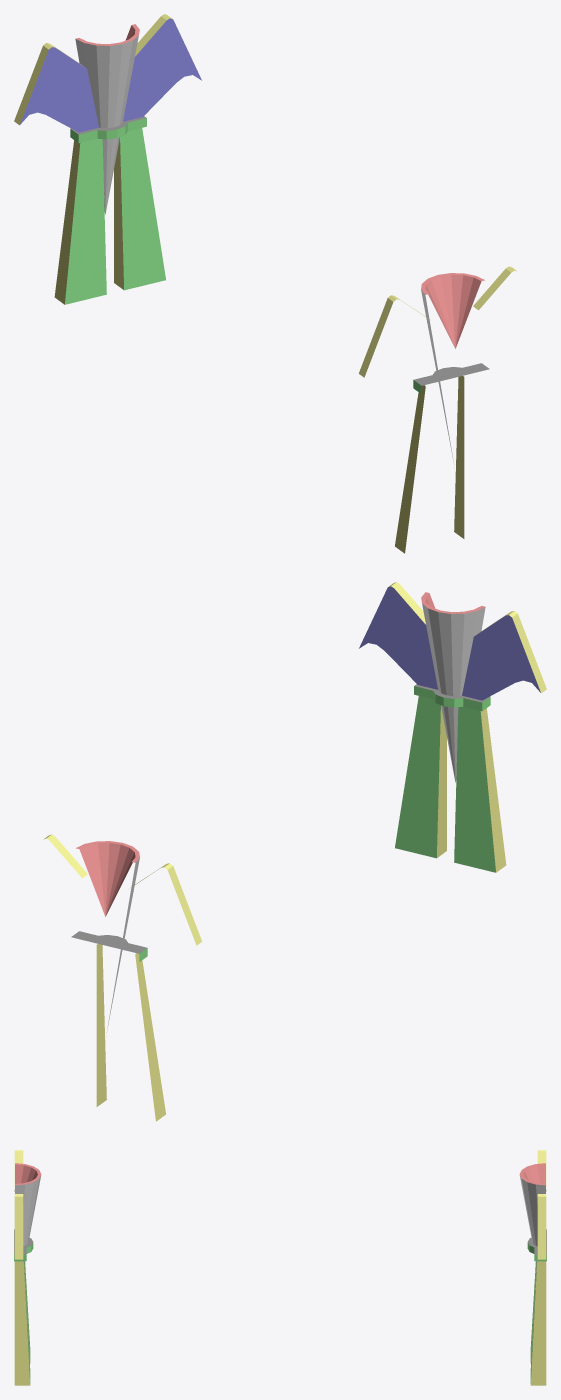
File: SSQ_dungeon_S__SSQ_hallway_Objset01.gltf
The picture shows the model from 3 angles, top to bottom: view 1: azimuth 30°, elevation 25°; view 2: azimuth 150°, elevation 25°; view 3: azimuth 270°, elevation 25°; orthographic projection. The views are drawn at different scales.
Visible parts, largest first — view 1: SSQ_hallway_Objset01; view 2: SSQ_hallway_Objset01; view 3: SSQ_hallway_Objset01.
Part boxes in pixels (x1=…): SSQ_hallway_Objset01: x1=14, y1=14, x2=517, y2=553; SSQ_hallway_Objset01: x1=43, y1=582, x2=546, y2=1121; SSQ_hallway_Objset01: x1=14, y1=1150, x2=546, y2=1385.
Size of the model in its own units: 0.9634 by 1.29 by 3.21.
